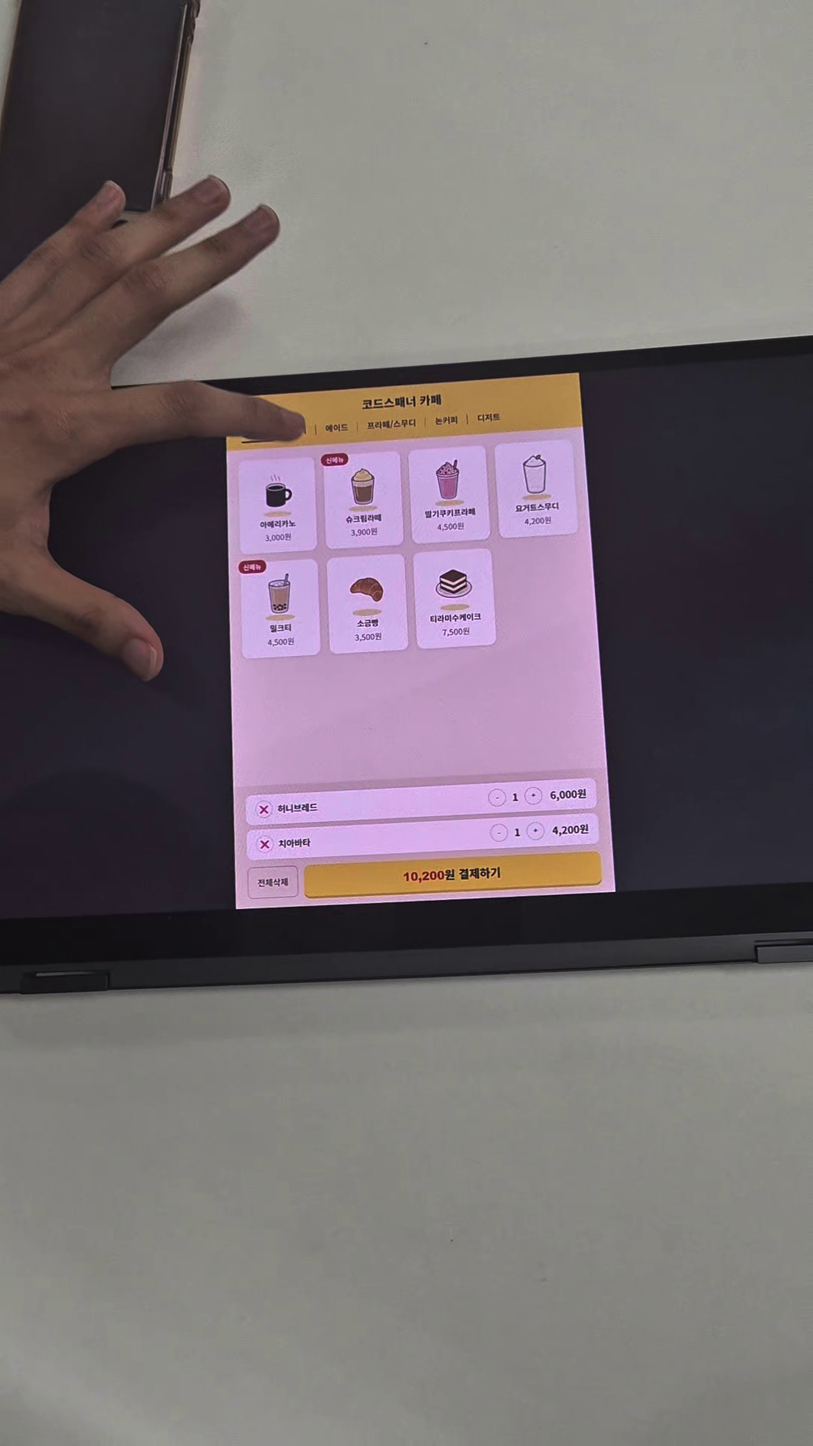category_tab: (412, 548, 496, 650), (494, 440, 579, 540), (408, 445, 491, 545), (241, 558, 321, 660), (328, 553, 408, 655), (237, 457, 318, 555), (322, 452, 403, 550), (365, 417, 418, 432), (323, 424, 351, 435), (476, 412, 501, 423), (434, 416, 458, 426)
menu_name: (423, 507, 477, 520), (428, 612, 482, 624), (276, 802, 319, 815), (513, 502, 560, 513), (344, 513, 384, 525), (257, 519, 297, 530), (278, 837, 312, 849), (355, 618, 381, 629), (268, 624, 293, 634)
menu_price: (547, 786, 588, 803), (551, 822, 590, 837), (265, 636, 296, 648), (348, 526, 379, 538), (353, 632, 383, 644), (523, 515, 553, 527), (262, 532, 293, 543), (441, 627, 471, 638), (436, 521, 466, 532)
